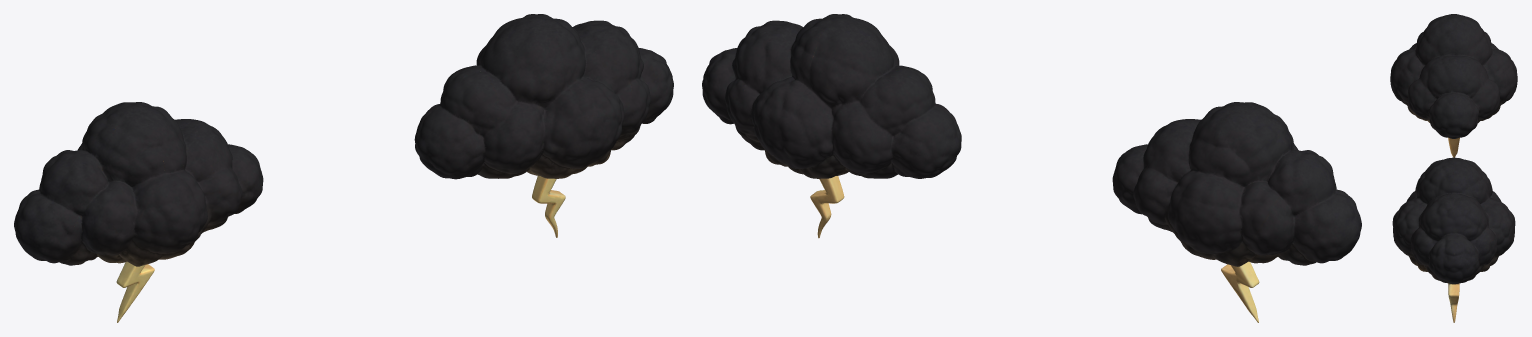
The picture shows the model from 3 angles, left to right: view 1: azimuth 30°, elevation 25°; view 2: azimuth 150°, elevation 25°; view 3: azimuth 270°, elevation 25°; orthographic projection. The views are drawn at different scales.
Visible parts, largest first — view 1: mesh_node; view 2: mesh_node; view 3: mesh_node.
Boxes of the visible parts, x1=… form: mesh_node: x1=14, y1=14, x2=673, y2=322; mesh_node: x1=702, y1=14, x2=1361, y2=322; mesh_node: x1=1390, y1=14, x2=1517, y2=322.
Size of the model in its own units: 1.9 by 0.6556 by 0.4649.
1 material, 1 textured.
